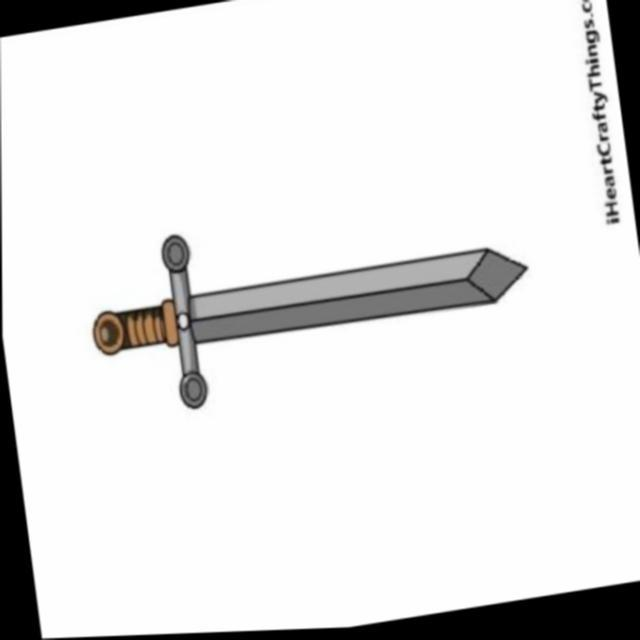weapon: (80, 182, 540, 423)
